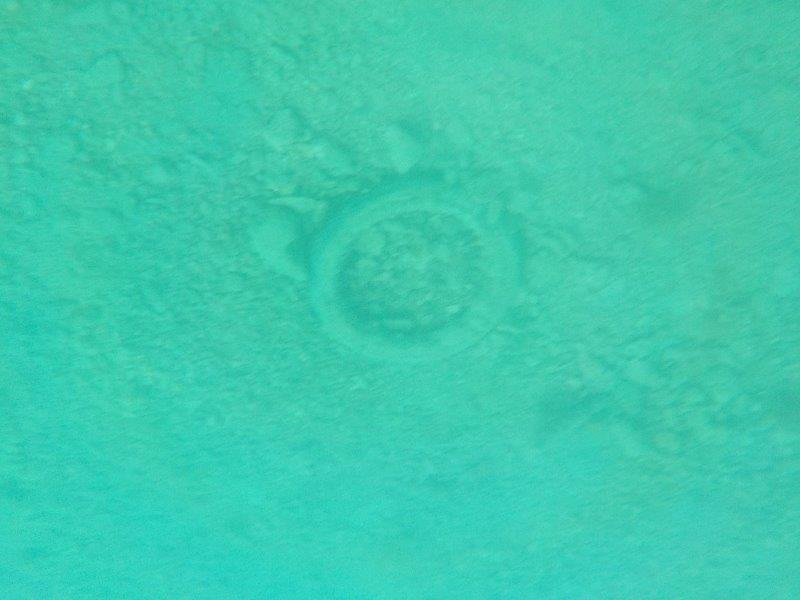tire: (299, 175, 523, 365)
